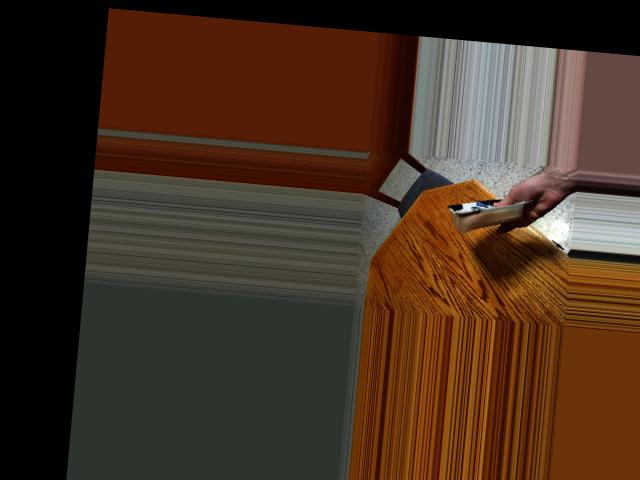cheese: (448, 176, 527, 245)
